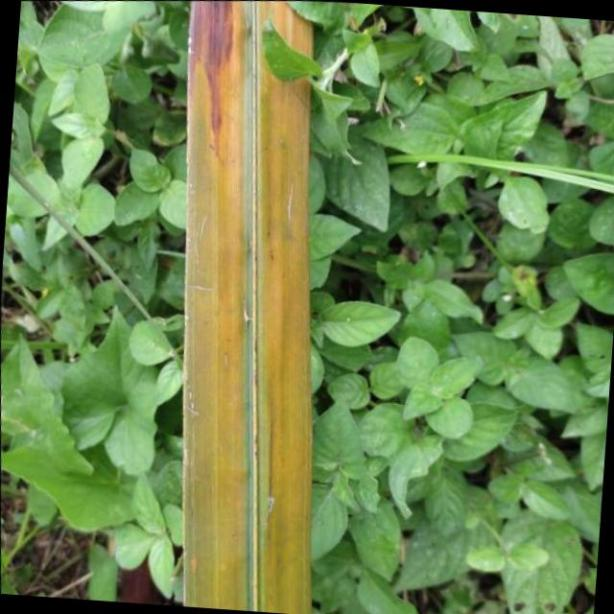Megnesium: (181, 0, 318, 614)
